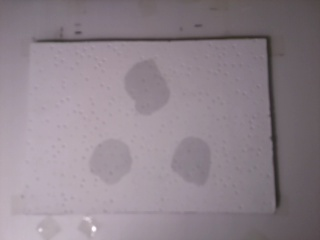Water_detected: (126, 72, 166, 112), (99, 152, 135, 187), (183, 150, 216, 182)
